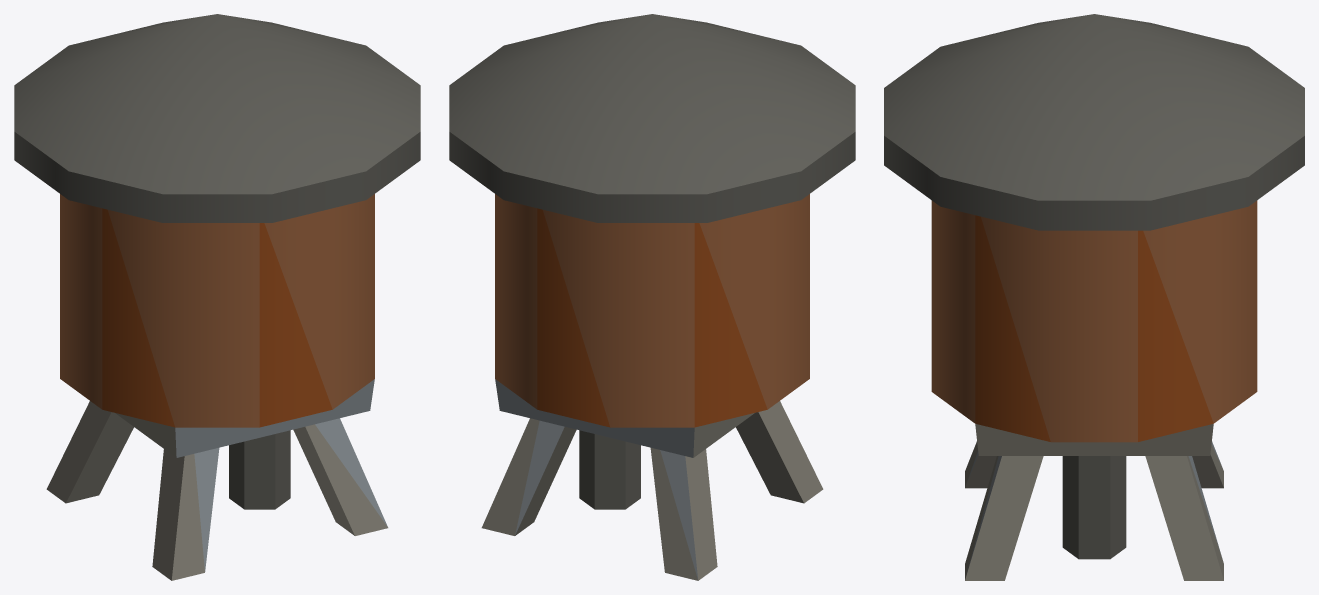
The model's file is itch_kaykit_city_bits_watertower.glb.
3 renders of one model, left to right at view 1: azimuth 30°, elevation 25°; view 2: azimuth 150°, elevation 25°; view 3: azimuth 270°, elevation 25°, orthographic. The views are drawn at different scales.
Parts seen in each view (by area): view 1: watertower; view 2: watertower; view 3: watertower.
Part boxes in pixels (<box>): watertower: <box>14,14,420,580</box>; watertower: <box>449,14,855,580</box>; watertower: <box>884,14,1304,580</box>.
Size of the model in its own units: 1.52 by 2.04 by 1.52.
